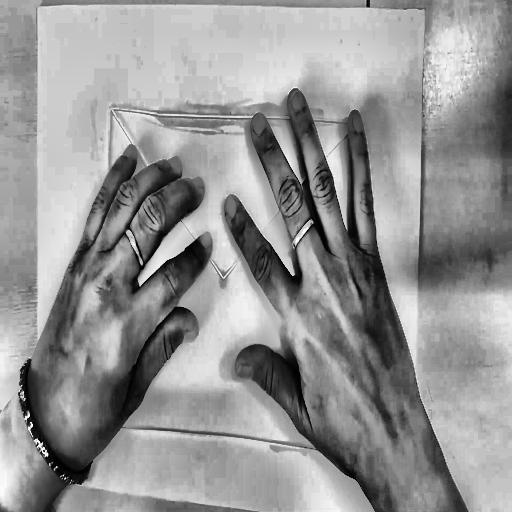bottom_left: (39, 464, 45, 475)
envelop: (99, 98, 364, 463)
top_left: (35, 4, 40, 12)
top_right: (423, 6, 427, 13)
